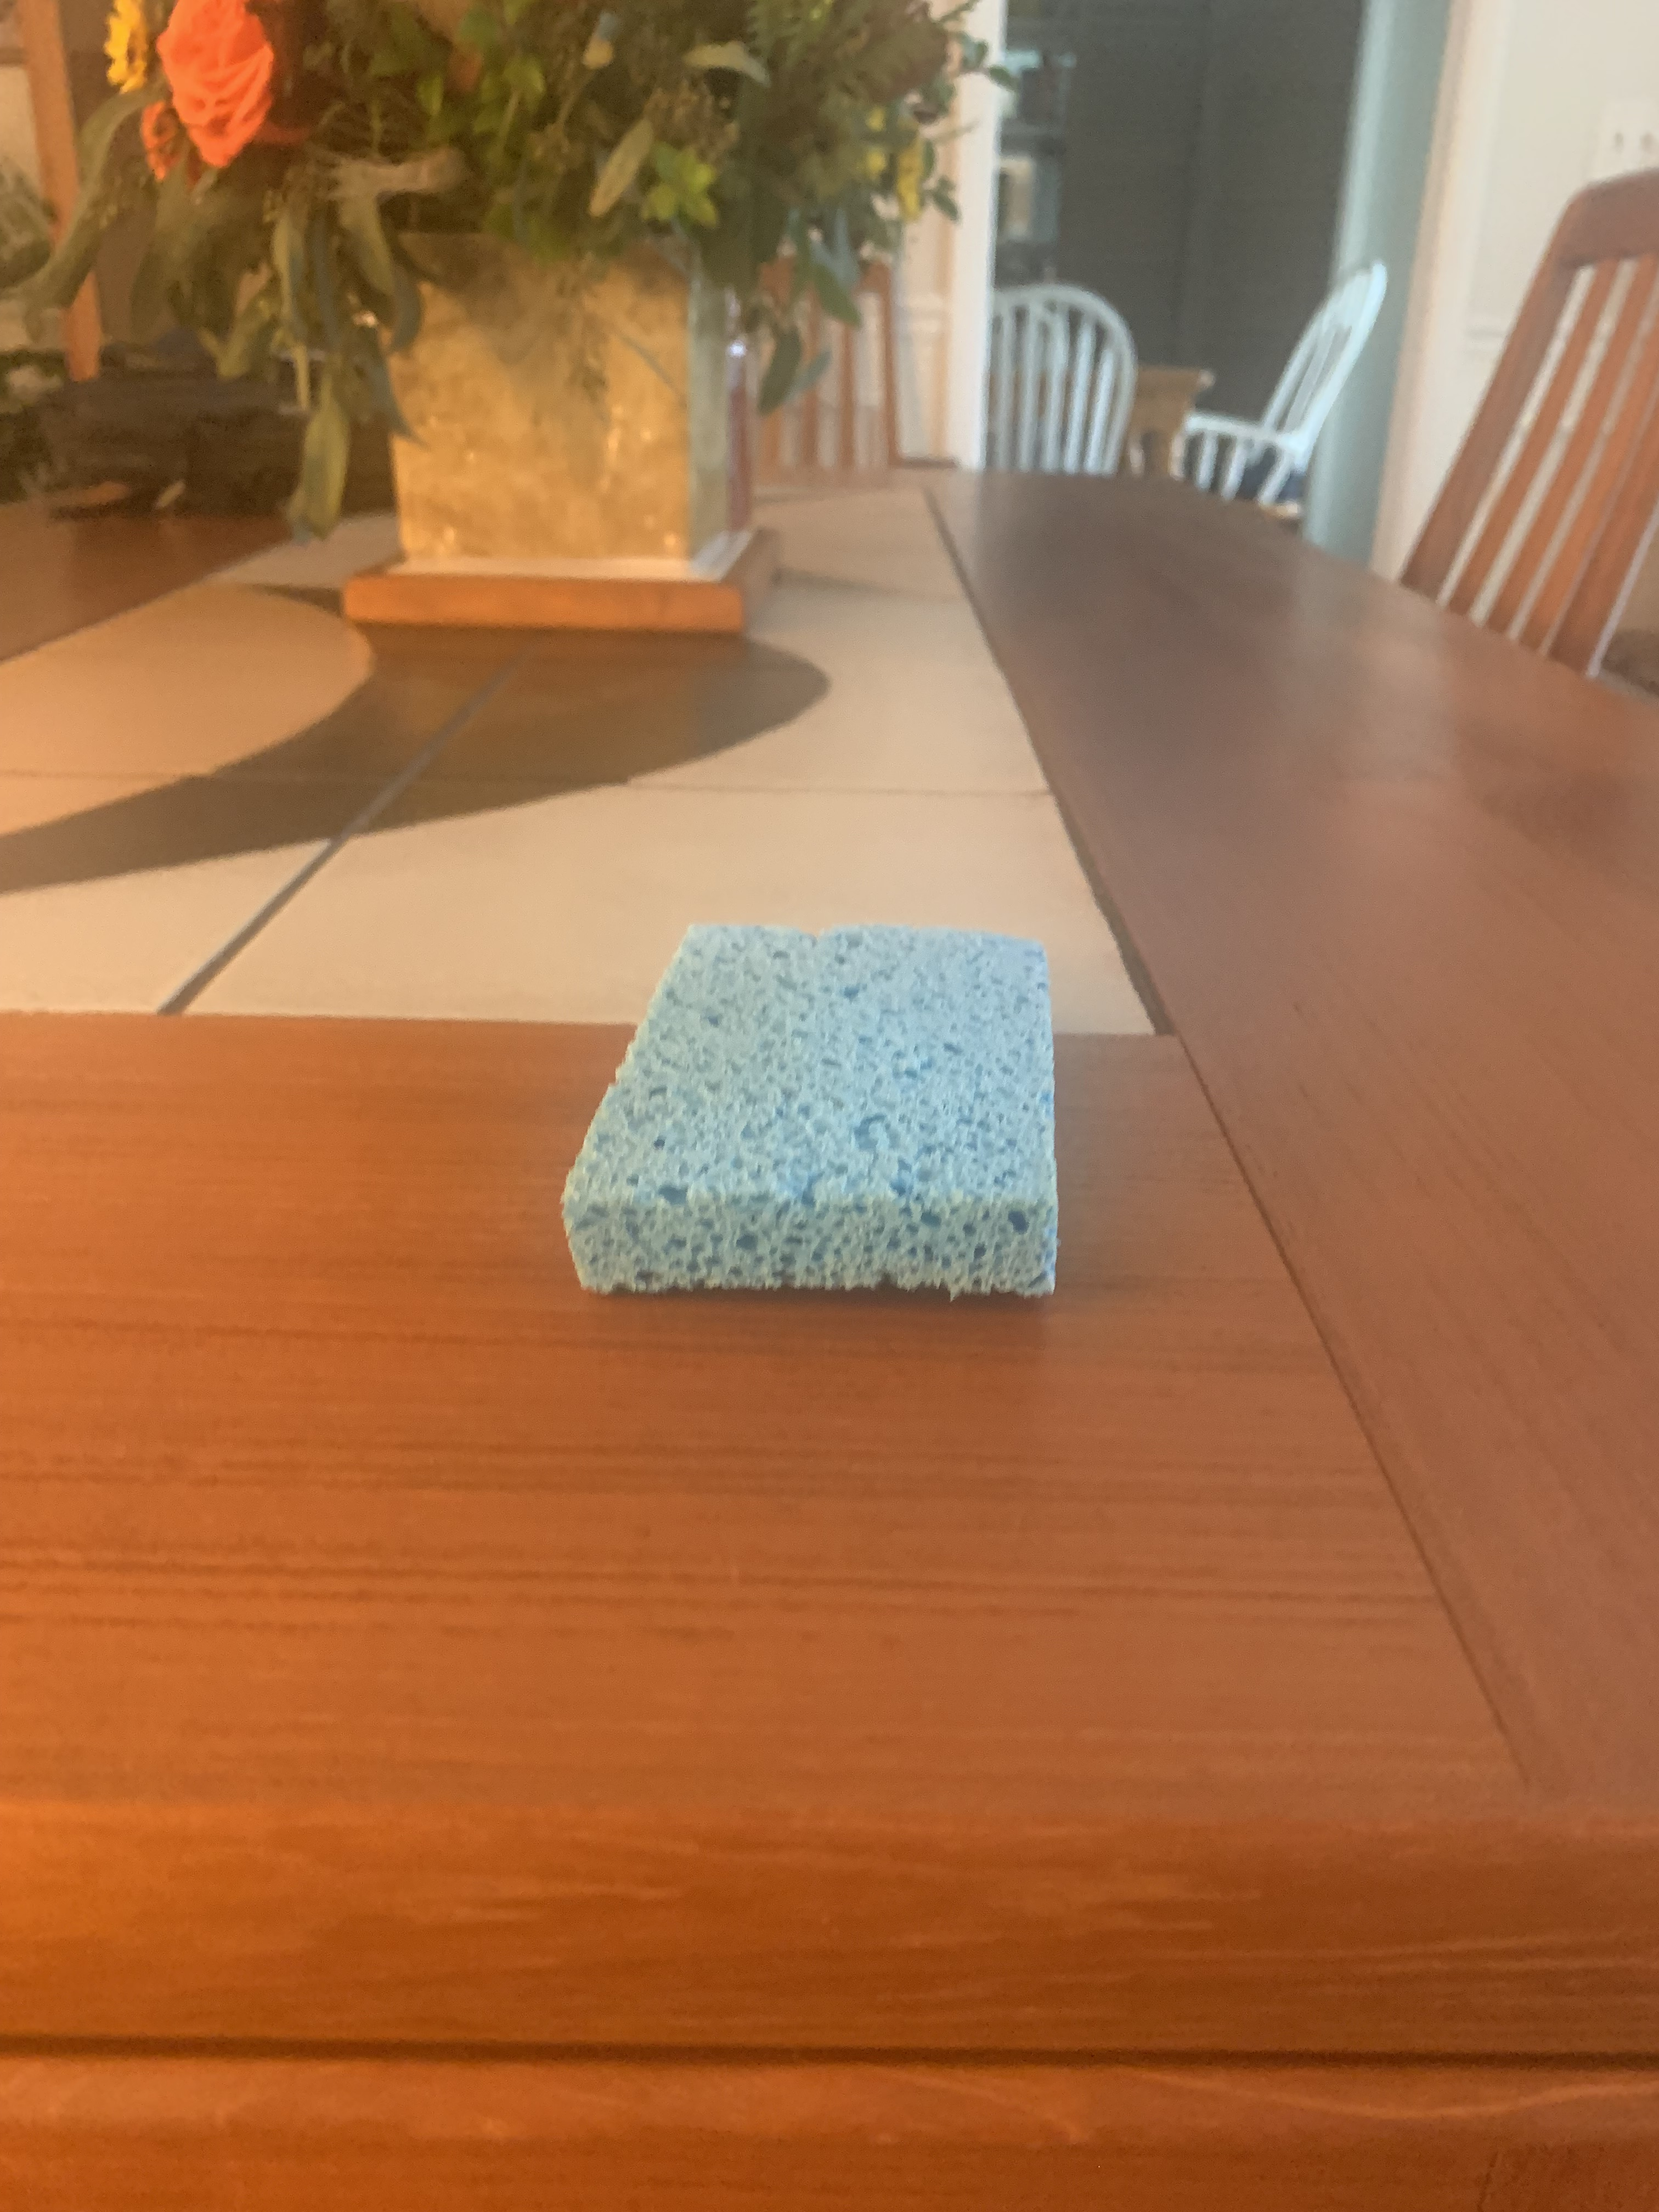BlueSponge: (569, 935, 1053, 1297)
